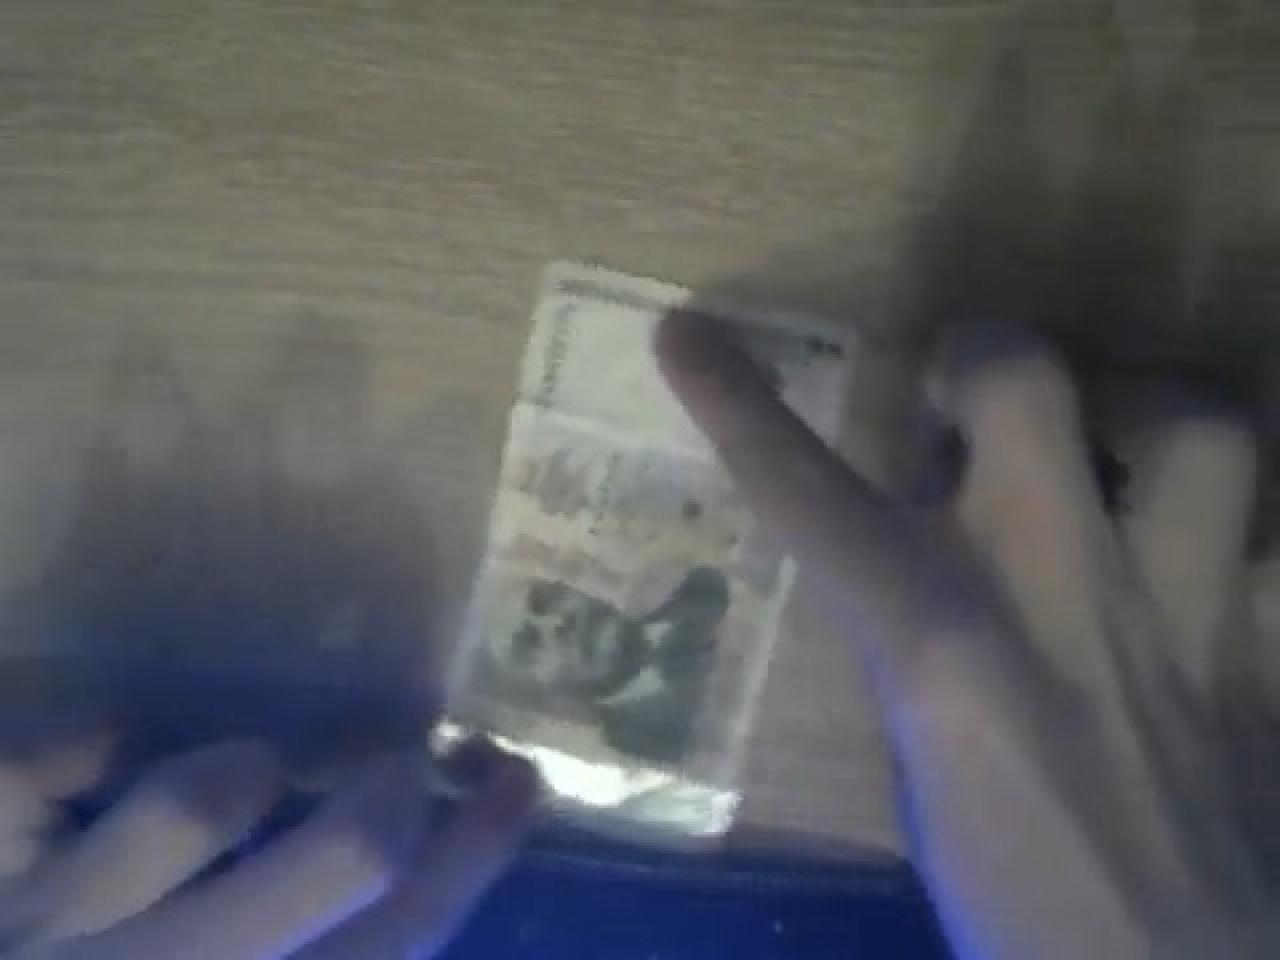10leva: (442, 253, 794, 845)
